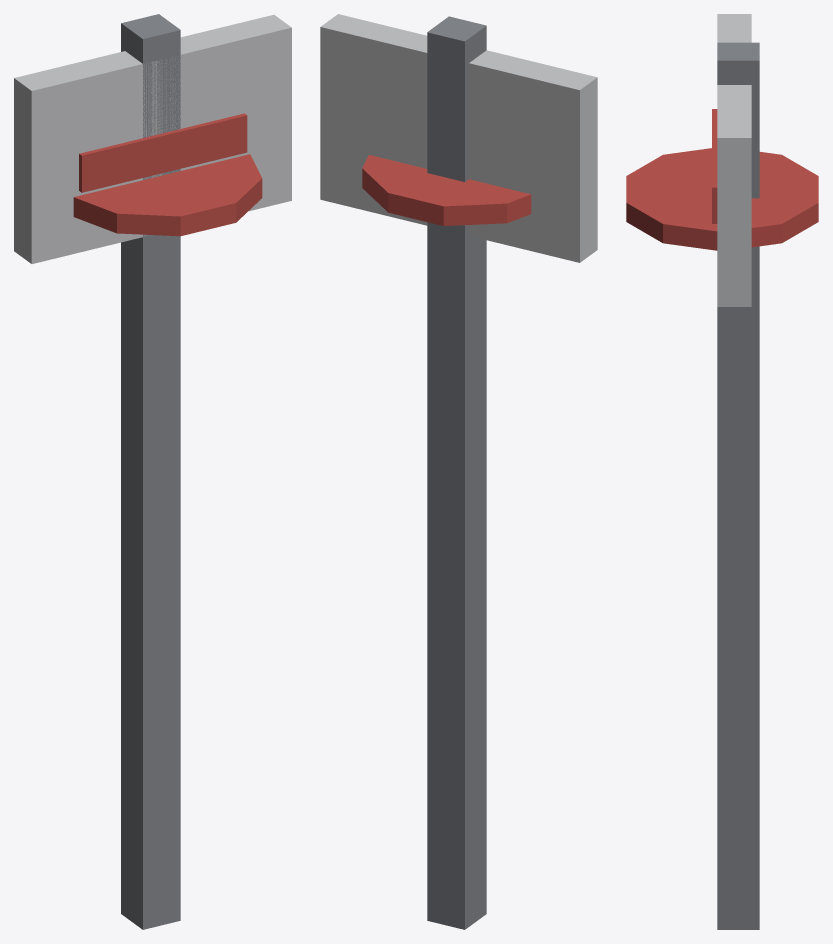
The model's file is hk-sign-height.glb.
3 views of the same model, side by side, from view 1: azimuth 30°, elevation 25°; view 2: azimuth 150°, elevation 25°; view 3: azimuth 270°, elevation 25° (orthographic). The views are drawn at different scales.
Parts seen in each view (by area): view 1: hk-sign-height; view 2: hk-sign-height; view 3: hk-sign-height.
Boxes of the visible parts, x1,y1,x2,y2 form: hk-sign-height: (14,14,291,929); hk-sign-height: (320,14,597,929); hk-sign-height: (626,14,818,929).
Bounding box in the file's own units: 1.1 × 3.6 × 0.7228.
